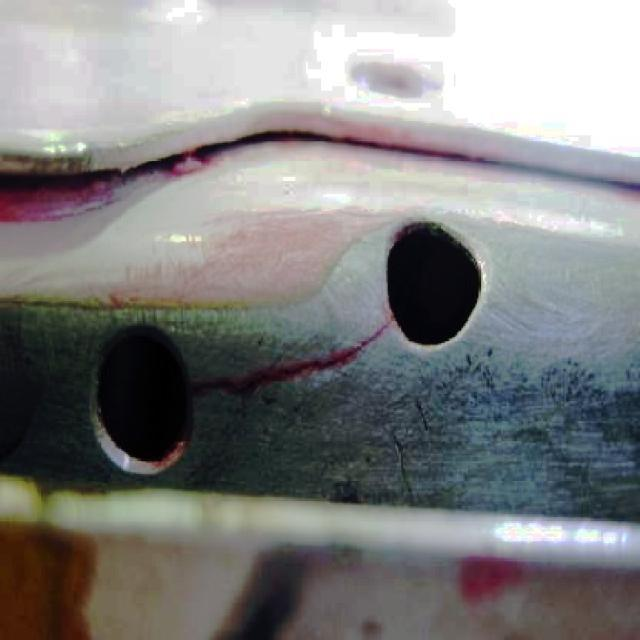crack: (348, 320, 396, 357), (276, 360, 342, 376), (196, 378, 236, 397), (240, 377, 280, 391)
